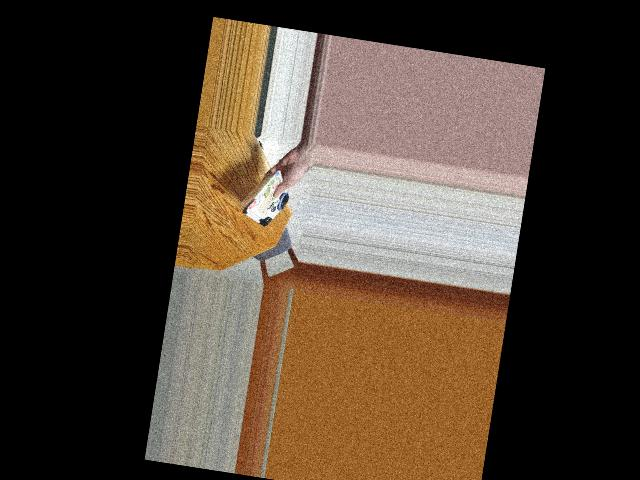cheese: (228, 168, 293, 233)
